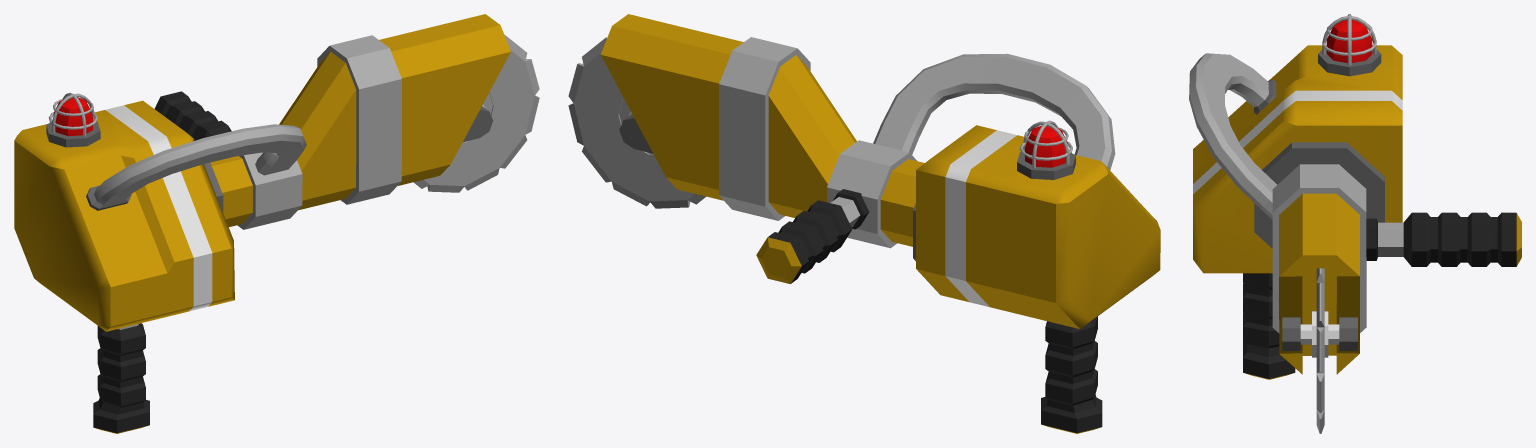
The model's file is Lo-Sha_Tool_1.fbx.
3 renders of one model, left to right at view 1: azimuth 30°, elevation 25°; view 2: azimuth 150°, elevation 25°; view 3: azimuth 270°, elevation 25°, orthographic. The views are drawn at different scales.
Visible parts, largest first — view 1: pCube13, pCube2, pCylinder5, pCylinder4, pCylinder3, pCylinder8, pCylinder7; view 2: pCube13, pCube2, pCylinder5, pCylinder4, pCylinder3, pCylinder8, pCylinder7; view 3: pCube13, pCube2, pCylinder3, pCylinder4, pCylinder8, pCylinder5, pCylinder7, pCylinder6, pCylinder12.
Boxes of the visible parts, left/top/right/bottom form: pCube13: left=86, top=14, right=510, bottom=229; pCube2: left=14, top=100, right=234, bottom=331; pCylinder5: left=413, top=34, right=539, bottom=192; pCylinder4: left=93, top=323, right=149, bottom=433; pCylinder3: left=154, top=91, right=231, bottom=140; pCylinder8: left=46, top=97, right=100, bottom=147; pCylinder7: left=463, top=106, right=493, bottom=141; pCube13: left=600, top=14, right=1115, bottom=260; pCube2: left=916, top=125, right=1160, bottom=328; pCylinder5: left=568, top=37, right=705, bottom=208; pCylinder4: left=1041, top=316, right=1102, bottom=433; pCylinder3: left=756, top=189, right=869, bottom=283; pCylinder8: left=1017, top=125, right=1075, bottom=179; pCylinder7: left=619, top=114, right=652, bottom=153; pCube13: left=1189, top=53, right=1384, bottom=374; pCube2: left=1193, top=45, right=1402, bottom=273; pCylinder3: left=1366, top=212, right=1521, bottom=266; pCylinder4: left=1243, top=273, right=1295, bottom=379; pCylinder8: left=1318, top=20, right=1381, bottom=76; pCylinder5: left=1316, top=268, right=1324, bottom=433; pCylinder7: left=1282, top=317, right=1357, bottom=350; pCylinder6: left=1300, top=311, right=1339, bottom=357; pCylinder12: left=1322, top=15, right=1376, bottom=54.
Size of the model in its own units: 84.7 by 50.53 by 44.06.
